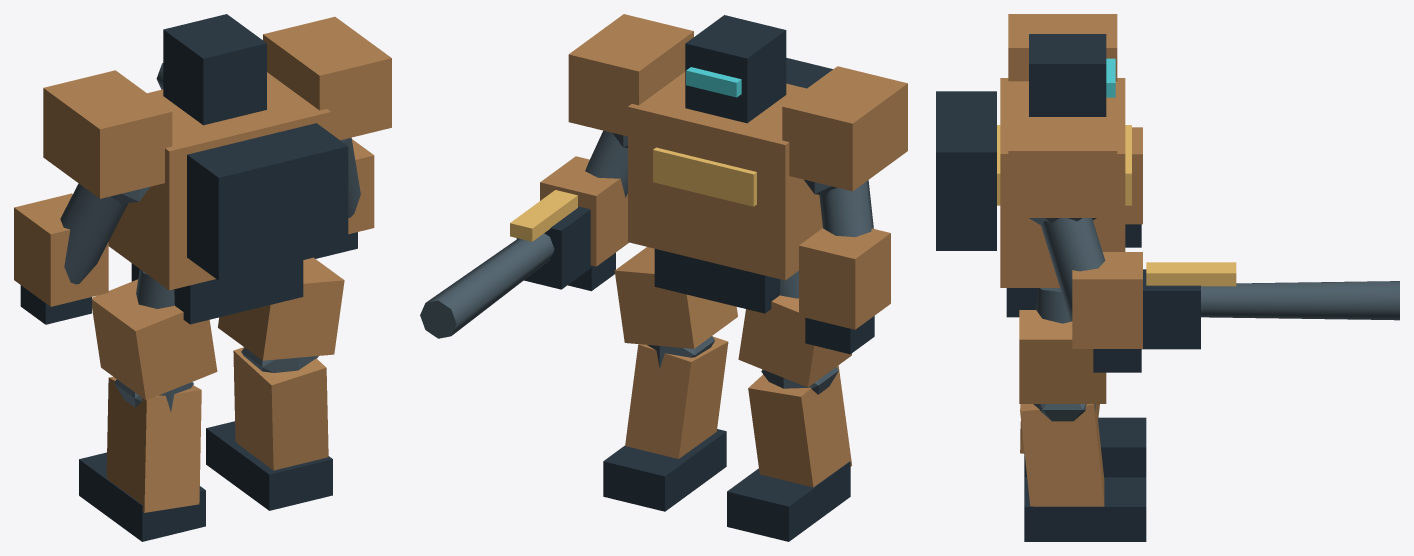
The model's file is unit-rifle.glb.
The picture shows the model from 3 angles, left to right: view 1: azimuth 30°, elevation 25°; view 2: azimuth 150°, elevation 25°; view 3: azimuth 270°, elevation 25°; orthographic projection. The views are drawn at different scales.
Visible parts, largest first — view 1: unit-rifle; view 2: unit-rifle; view 3: unit-rifle.
Boxes of the visible parts, box(x1,y1,x2,y2) form: unit-rifle: box(14, 14, 391, 541); unit-rifle: box(420, 14, 907, 541); unit-rifle: box(936, 14, 1399, 541).
Bounding box in the file's own units: 1.12 × 1.54 × 1.44.
